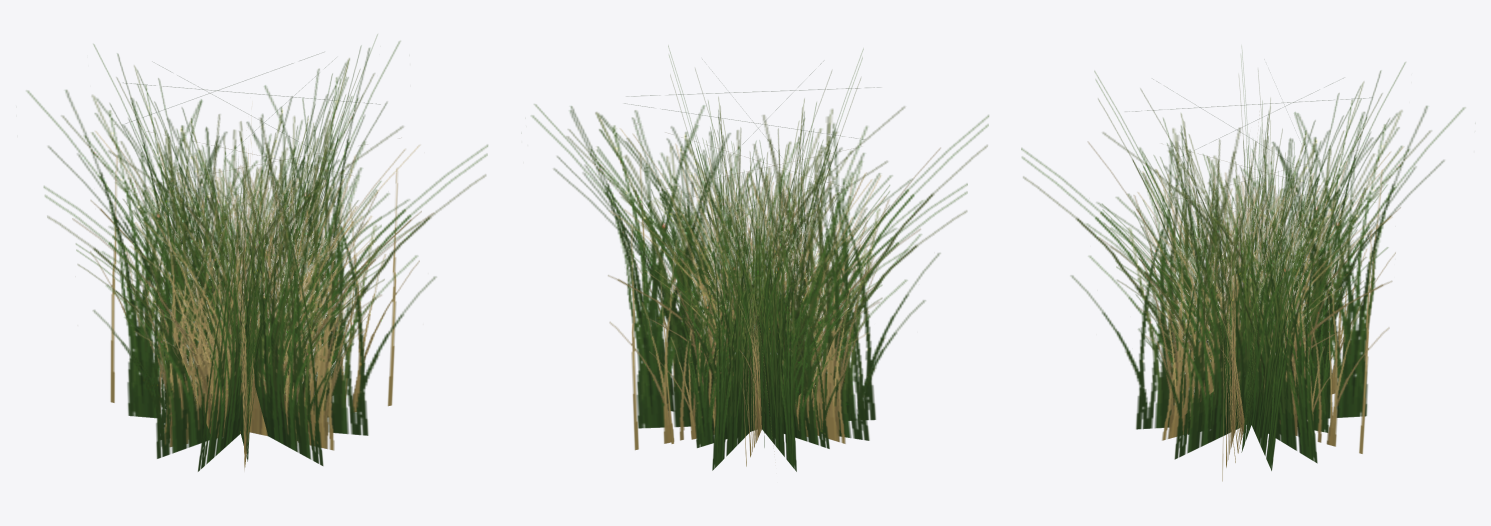
The model's file is grass_kit.glb.
3 renders of one model, left to right at view 1: azimuth 30°, elevation 25°; view 2: azimuth 150°, elevation 25°; view 3: azimuth 270°, elevation 25°, orthographic. The views are drawn at different scales.
Parts seen in each view (by area): view 1: grass_green_b, grass_dry_a, grass_green_a, grass_dry_b; view 2: grass_green_b, grass_dry_a, grass_green_a, grass_dry_b; view 3: grass_green_b, grass_dry_a, grass_green_a, grass_dry_b.
Part boxes in pixels (x1,y1,x2,y2): grass_green_b: (26, 34, 487, 471); grass_dry_a: (72, 131, 433, 469); grass_green_a: (76, 181, 385, 461); grass_dry_b: (133, 224, 371, 440); grass_green_b: (531, 46, 988, 471); grass_dry_a: (608, 128, 940, 450); grass_green_a: (630, 185, 889, 448); grass_dry_b: (645, 225, 873, 466); grass_green_b: (1021, 52, 1465, 470); grass_dry_a: (1088, 141, 1403, 481); grass_green_a: (1102, 185, 1388, 452); grass_dry_b: (1129, 237, 1363, 462).
Bounding box in the file's own units: 1.06 × 0.8 × 1.07.
2 materials, 2 textured.
